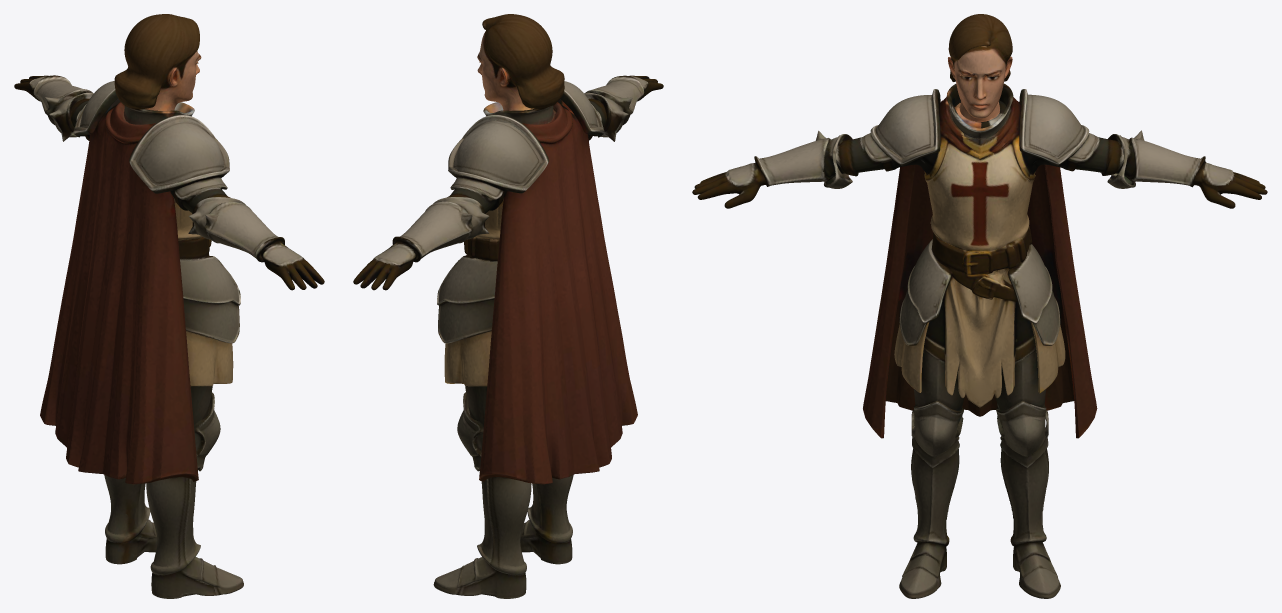
File: Humano_Normal_Armadura_Mujer.fbx
The picture shows the model from 3 angles, left to right: view 1: azimuth 30°, elevation 25°; view 2: azimuth 150°, elevation 25°; view 3: azimuth 270°, elevation 25°; orthographic projection.
Visible parts, largest first — view 1: tripo_node_a1ce7f20; view 2: tripo_node_a1ce7f20; view 3: tripo_node_a1ce7f20.
Part boxes in pixels (x1,y1,x2,y2): tripo_node_a1ce7f20: (14, 14, 324, 598); tripo_node_a1ce7f20: (353, 14, 663, 598); tripo_node_a1ce7f20: (692, 14, 1267, 598).
Bounding box in the file's own units: 27.25 × 100 × 93.37.
1 material, 1 textured.
